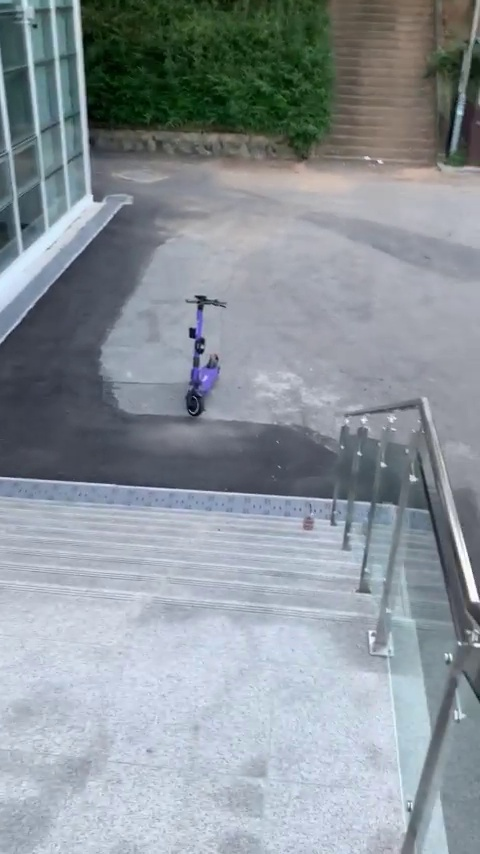beam: (175, 286, 235, 422)
